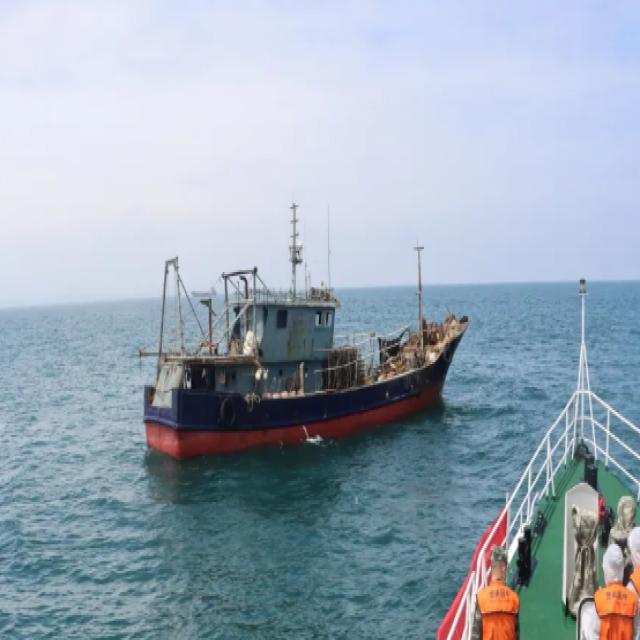fishing boat: (139, 205, 471, 462)
